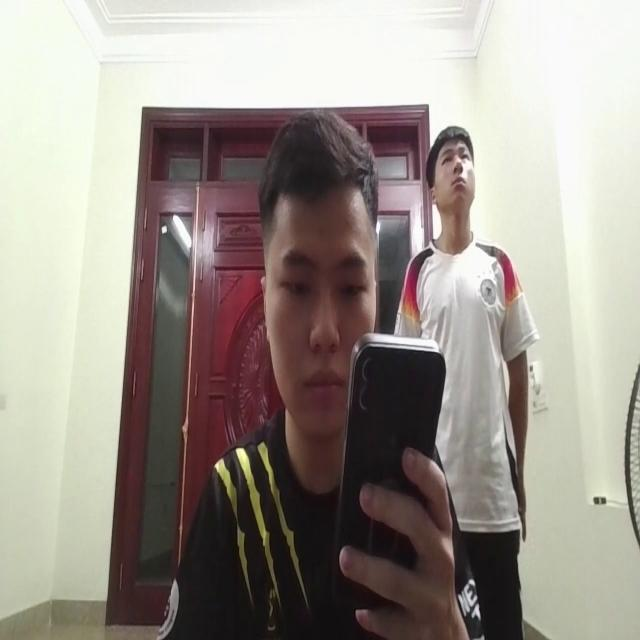extra_person: (409, 119, 522, 527)
phone: (346, 337, 441, 584)
student: (192, 113, 446, 640)
